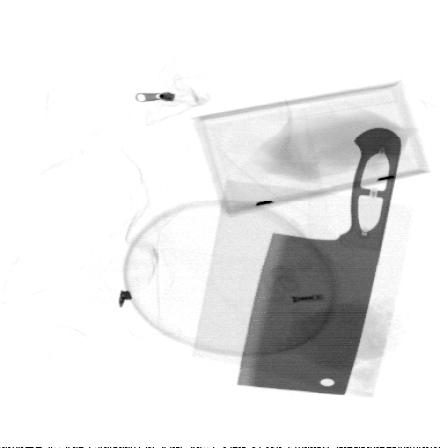Knife: (237, 125, 404, 397)
